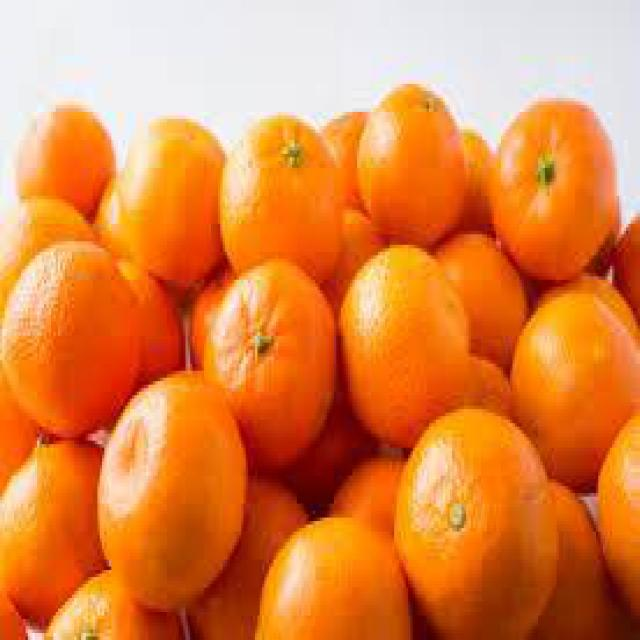orange: (396, 408, 552, 636), (98, 372, 246, 610), (204, 258, 334, 462), (342, 243, 472, 445), (2, 240, 138, 433), (509, 287, 637, 485), (491, 100, 616, 282), (219, 116, 342, 286), (106, 115, 227, 287), (1, 435, 103, 619), (255, 515, 409, 636), (358, 82, 467, 245), (14, 103, 115, 219)
